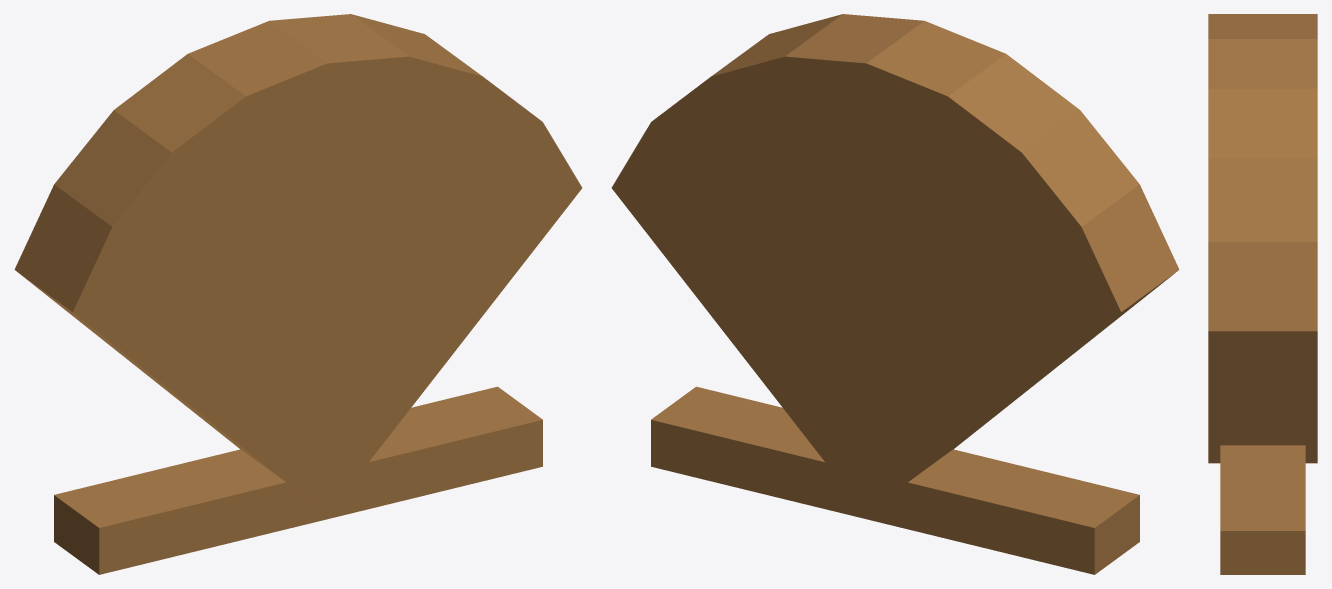
The model's file is emblem_shell.fbx.
3 views of the same model, side by side, from view 1: azimuth 30°, elevation 25°; view 2: azimuth 150°, elevation 25°; view 3: azimuth 270°, elevation 25° (orthographic). The views are drawn at different scales.
Visible parts, largest first — view 1: Emblem; view 2: Emblem; view 3: Emblem.
Boxes of the visible parts, x1,y1,x2,y2 form: Emblem: [14, 14, 582, 574]; Emblem: [611, 14, 1179, 574]; Emblem: [1208, 14, 1317, 574].
Size of the model in its own units: 45.48 by 39.4 by 9.
